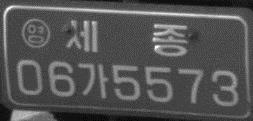0: (15, 58, 44, 96)
3: (209, 69, 240, 107)
5: (111, 63, 142, 101), (143, 63, 173, 102)
6: (46, 59, 76, 98)
7: (176, 67, 205, 105)
가: (77, 61, 110, 100)
세종_D: (64, 17, 189, 59)
영: (20, 17, 50, 49)
